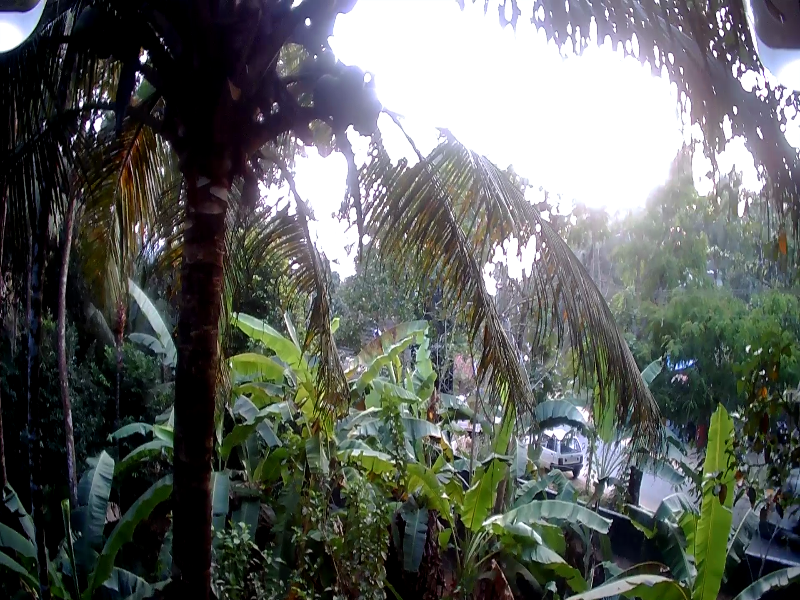coconut: (315, 71, 342, 111), (339, 60, 360, 87)
